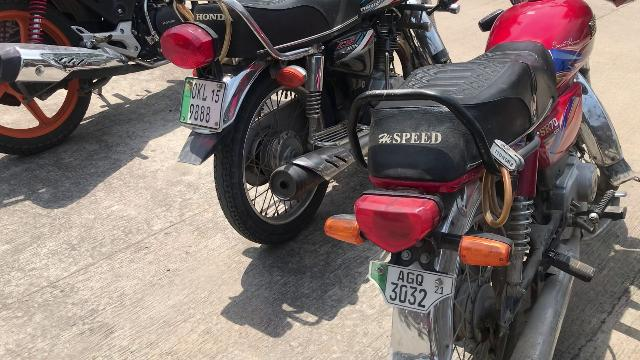plate: (365, 252, 459, 314)
